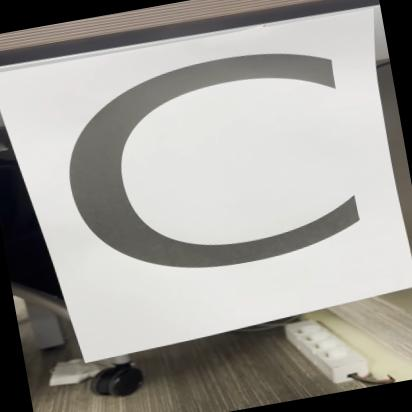seat: (0, 7, 405, 359)
